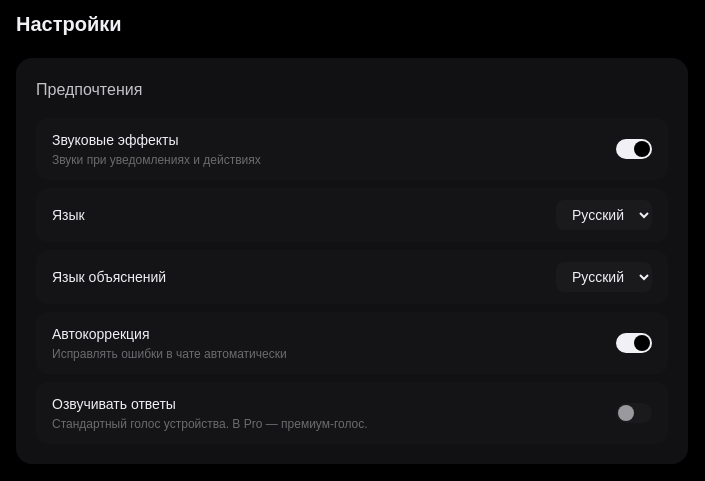
SettingsPage › 5: во время мутации переключатель disabled, повторный клик не дублирует запрос
Click the switch named "Звуковые эффекты". click: x=634, y=149
box: [616,139,652,159]
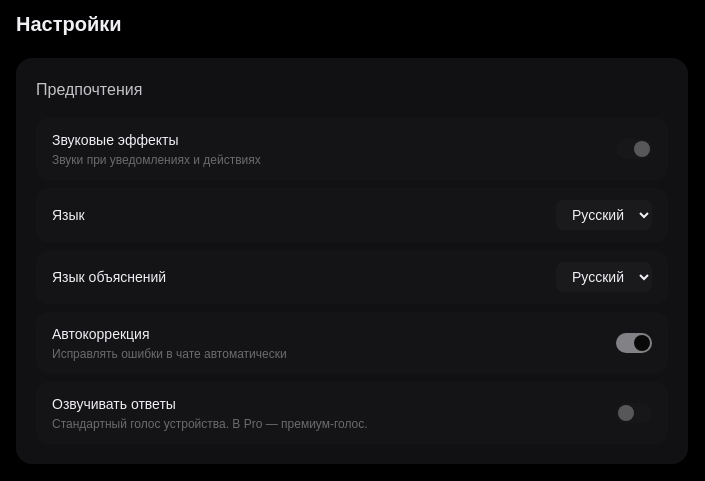
Now the switch named "Звуковые эффекты" is disabled
// ARCHITECT: прямой клик по disabled-контролу — гард обязан держать и этот путь, не только разметку.
Click the switch named "Звуковые эффекты". click: x=634, y=149
box: [616,139,652,159]
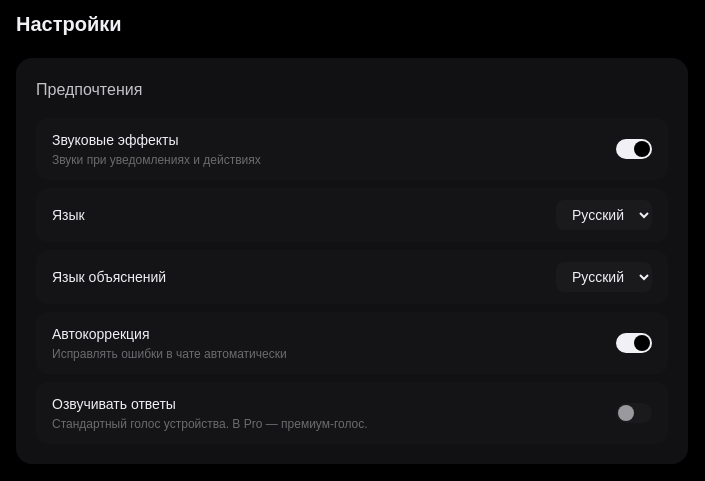
Now the switch named "Звуковые эффекты" is enabled, box [616,139,652,159]
